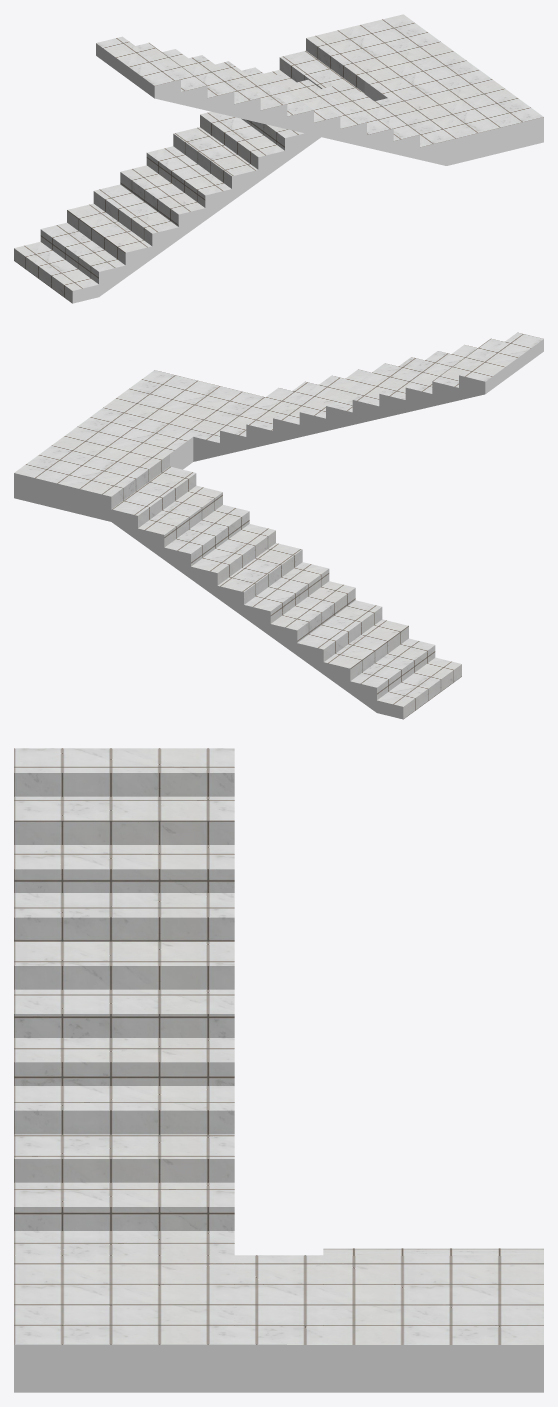
Rendered from Stair-transformed.glb.
The picture shows the model from 3 angles, top to bottom: view 1: azimuth 30°, elevation 25°; view 2: azimuth 150°, elevation 25°; view 3: azimuth 270°, elevation 25°; orthographic projection. The views are drawn at different scales.
Visible parts, largest first — view 1: Stair; view 2: Stair; view 3: Stair.
Boxes of the visible parts, left/top/right/bottom form: Stair: left=14, top=14, right=543, bottom=303; Stair: left=14, top=332, right=543, bottom=719; Stair: left=14, top=748, right=543, bottom=1392.
Bounding box in the file's own units: 2.4 × 1.64 × 1.5.
2 materials, 1 textured.
